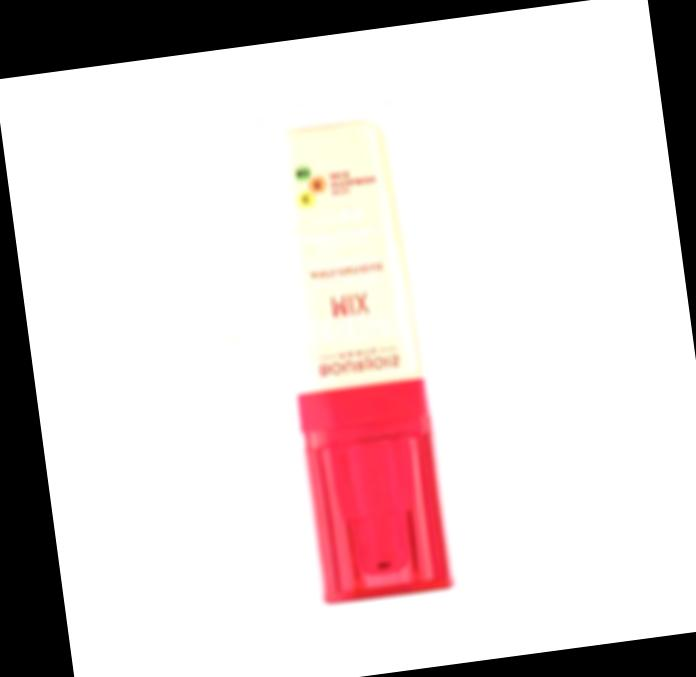cosmetic: (250, 81, 460, 605)
